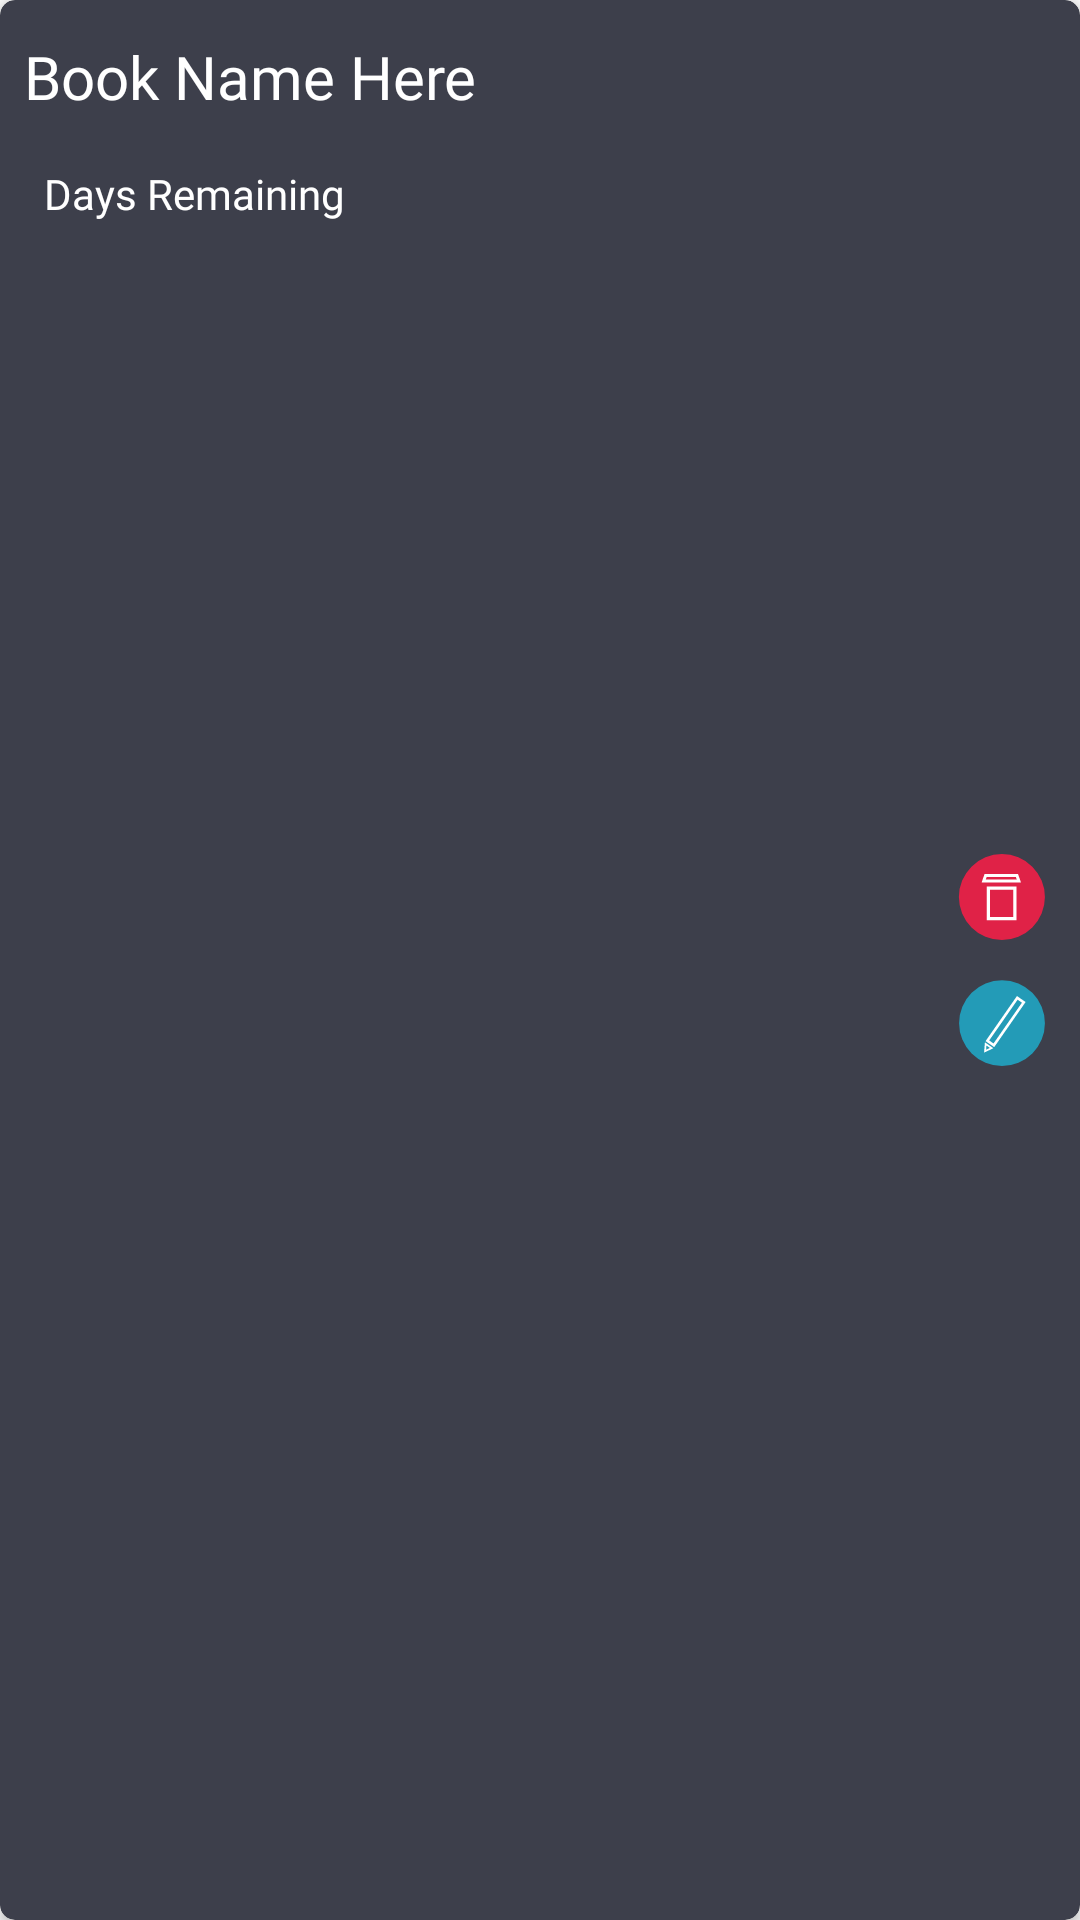

Locate icon controls on the screen. Image size 1080w x 1920h, boxes as (x1, y1, x2, y2).
delete: (959, 854, 1045, 940)
edit: (959, 980, 1045, 1066)
